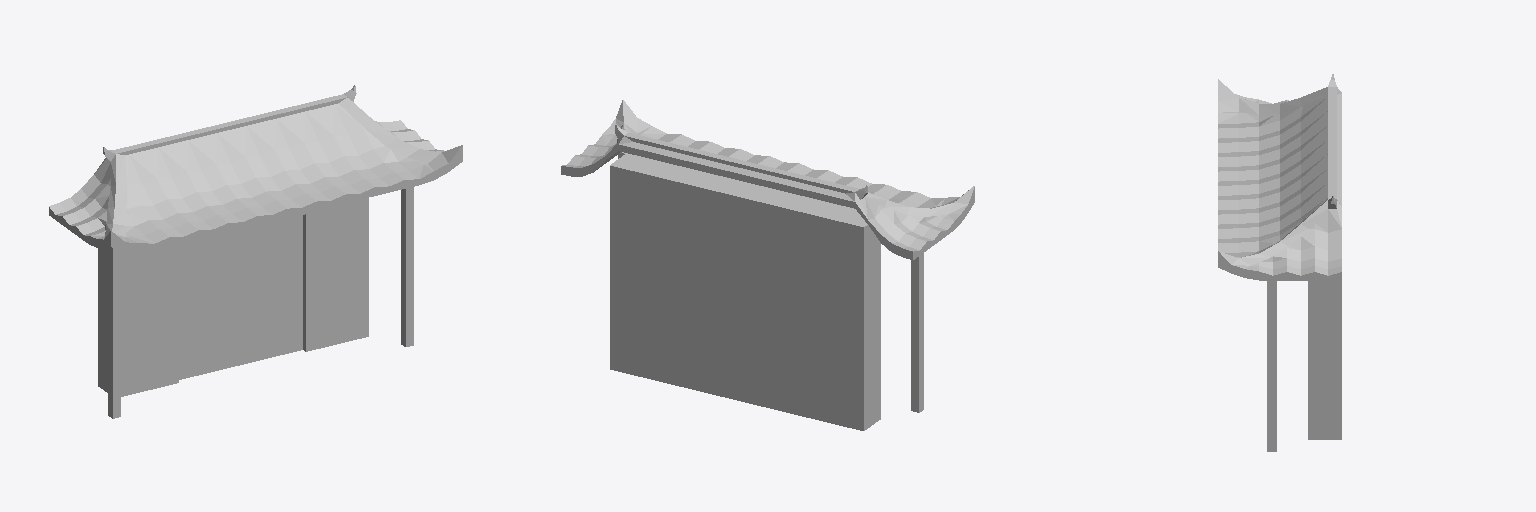
Rendered from side_buildings.obj.
3 views of the same model, side by side, from view 1: azimuth 30°, elevation 25°; view 2: azimuth 150°, elevation 25°; view 3: azimuth 270°, elevation 25° (orthographic).
Parts seen in each view (by area): view 1: Cube.001_Cube.003, Cube.003_Cube.002, Cube, Cube.002_Cube.001; view 2: Cube.003_Cube.002, Cube.001_Cube.003, Cube; view 3: Cube.001_Cube.003, Cube.003_Cube.002, Cube.002_Cube.001.
Boxes of the visible parts, x1=… form: Cube.001_Cube.003: x1=49, y1=85, x2=462, y2=251; Cube.003_Cube.002: x1=98, y1=198, x2=368, y2=396; Cube: x1=108, y1=247, x2=120, y2=418; Cube.002_Cube.001: x1=401, y1=187, x2=413, y2=346; Cube.003_Cube.002: x1=610, y1=153, x2=880, y2=430; Cube.001_Cube.003: x1=561, y1=100, x2=974, y2=259; Cube: x1=911, y1=253, x2=923, y2=412; Cube.001_Cube.003: x1=1218, y1=74, x2=1341, y2=280; Cube.003_Cube.002: x1=1308, y1=281, x2=1341, y2=439; Cube.002_Cube.001: x1=1267, y1=281, x2=1276, y2=451.
Size of the model in its own units: 1.91 by 1.26 by 0.584.